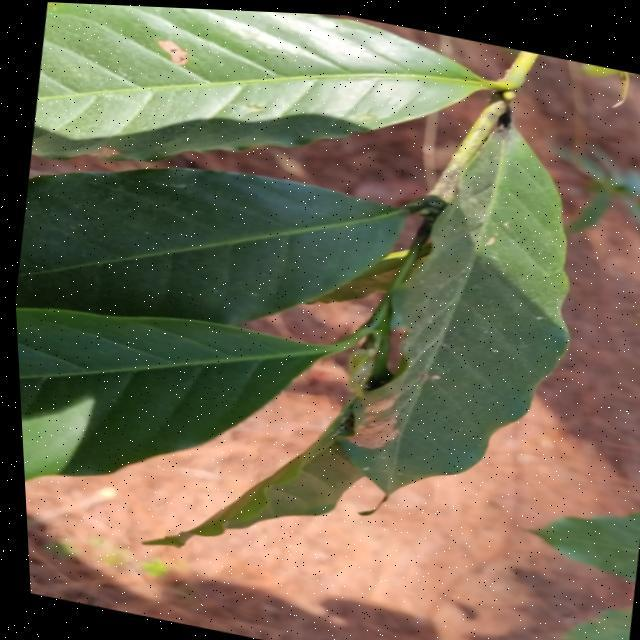leaves: (301, 117, 640, 532), (34, 3, 522, 176), (17, 152, 407, 347), (10, 309, 358, 496)
